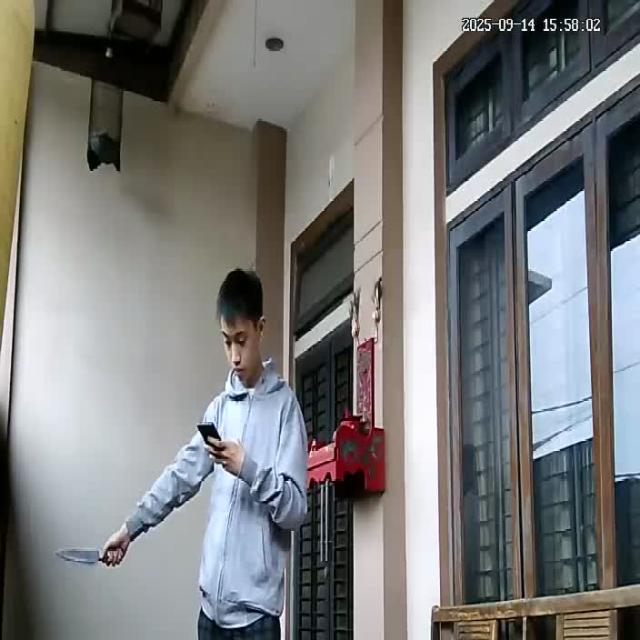senjata_tajam: (55, 547, 101, 567)
